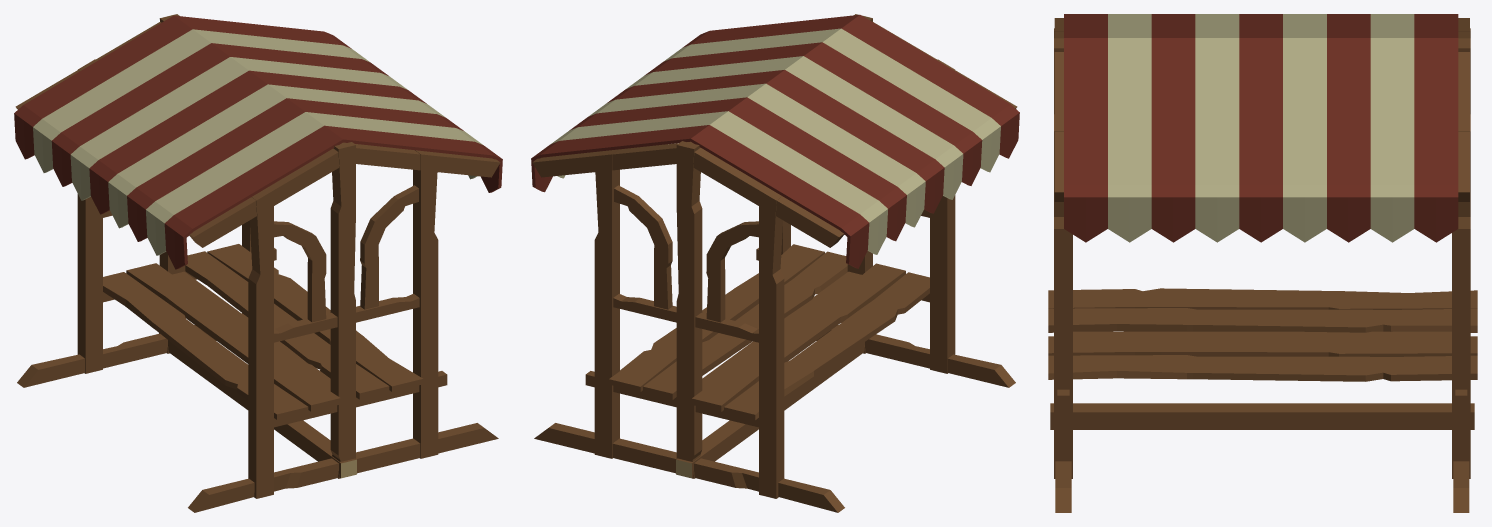
File: market_stand.glb
3 views of the same model, side by side, from view 1: azimuth 30°, elevation 25°; view 2: azimuth 150°, elevation 25°; view 3: azimuth 270°, elevation 25° (orthographic). The views are drawn at different scales.
Parts seen in each view (by area): view 1: MarketStand_1; view 2: MarketStand_1; view 3: MarketStand_1.
Part boxes in pixels (left/top/right/bottom): MarketStand_1: left=14, top=14, right=502, bottom=512; MarketStand_1: left=531, top=14, right=1019, bottom=512; MarketStand_1: left=1048, top=14, right=1477, bottom=512.
Bounding box in the file's own units: 3 × 3 × 3.
